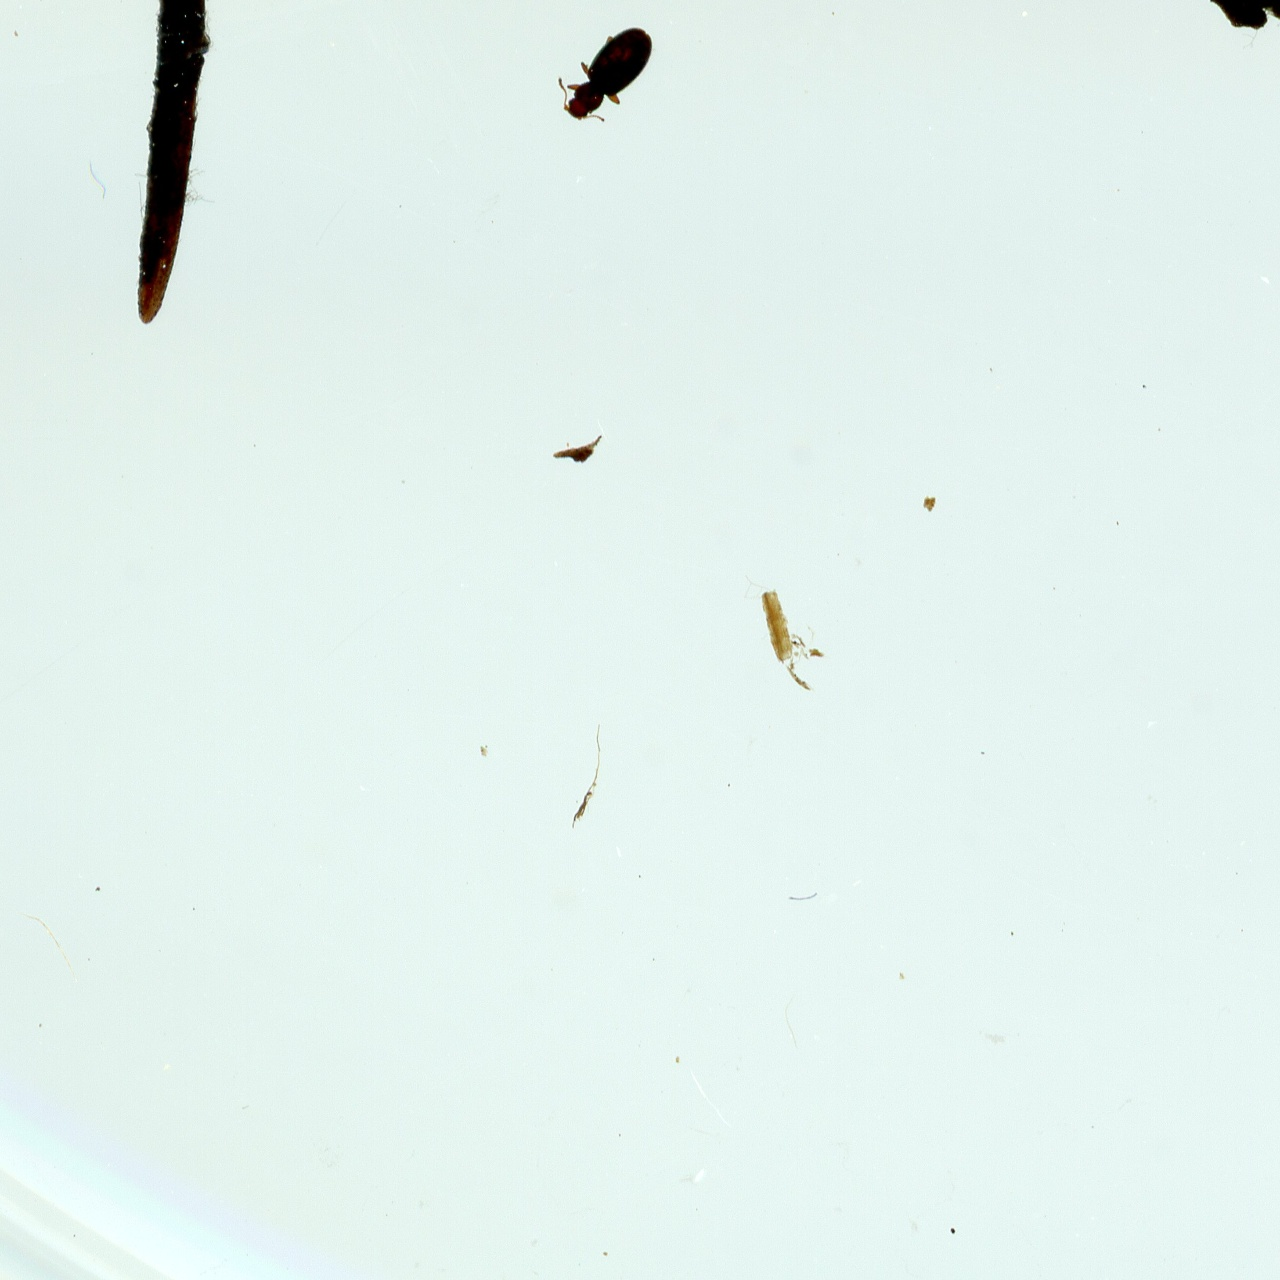arthropod: (540, 2, 670, 141)
